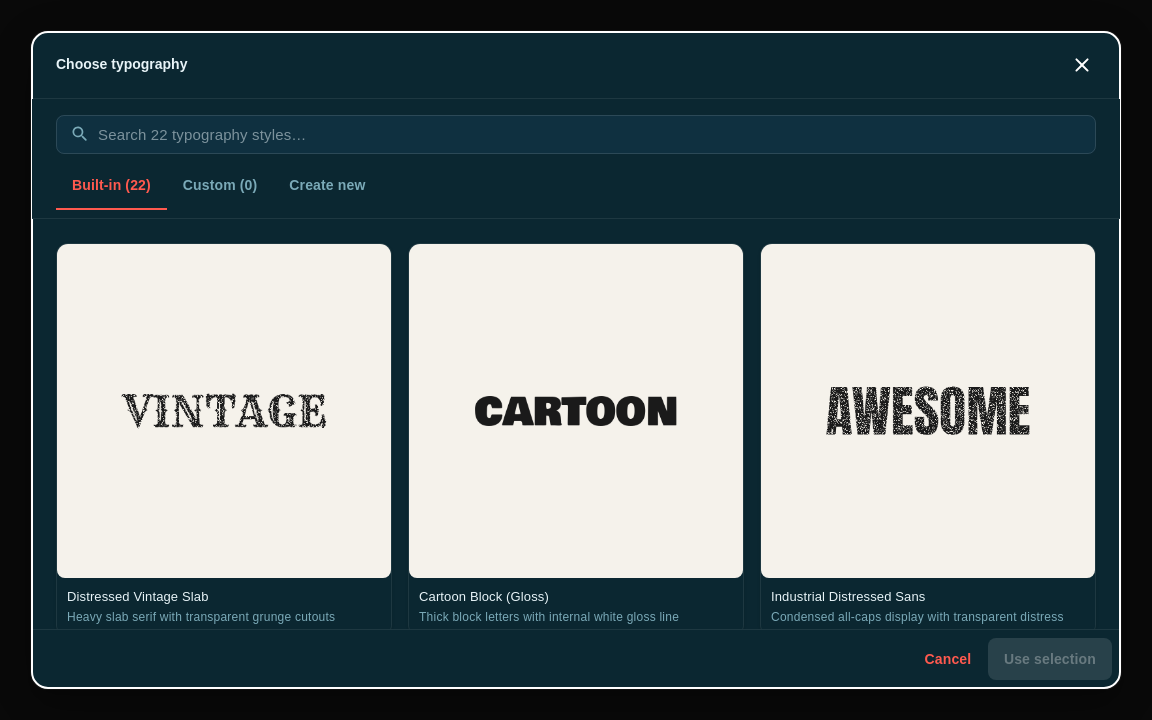
Test: TypographyPickerModal › search filter narrows results by ui_label substring
Type "Pixel" into the field named "Search typography".
click(597, 134); type("Pixel")  # box [98,115,1096,154]
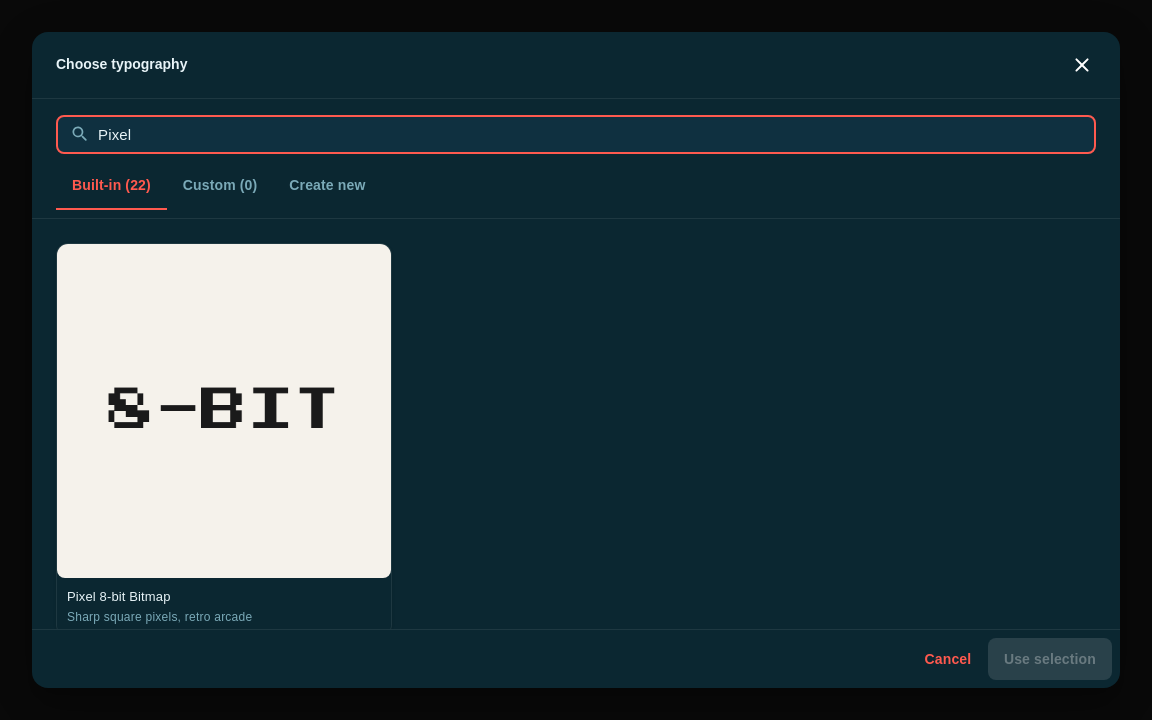
Expected: the heading "Pixel 8-bit Bitmap" is shown, [67,589,170,604]
Expected: the button "Distressed Vintage Slab" is gone
